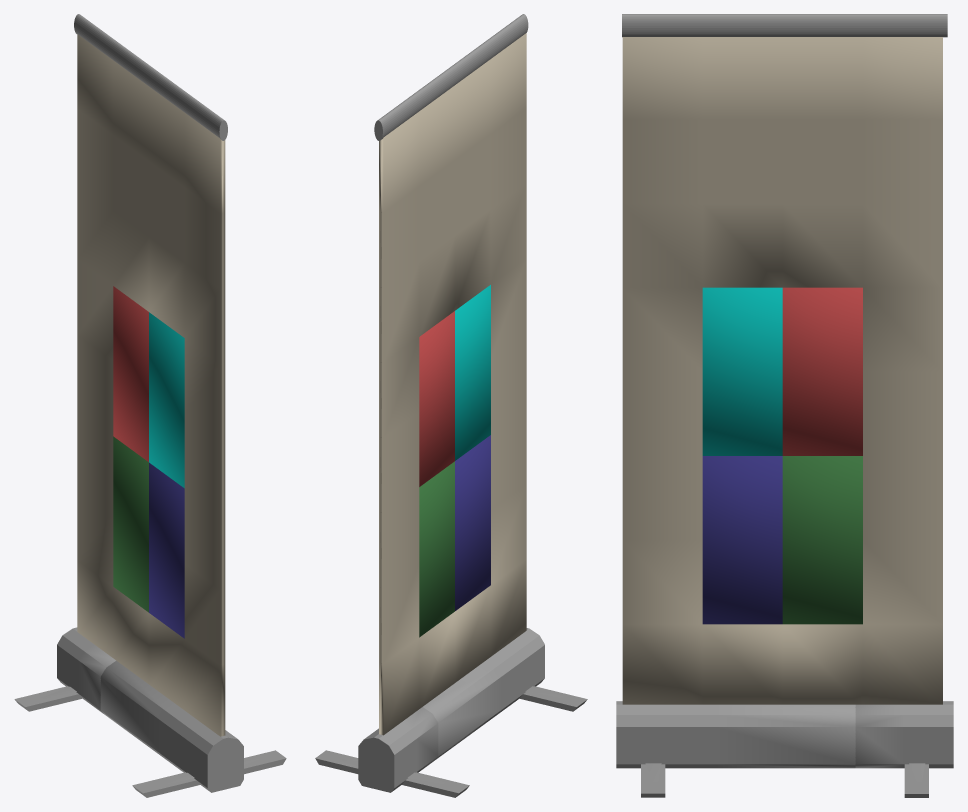
Rendered from flama 2.fbx.
3 renders of one model, left to right at view 1: azimuth 30°, elevation 25°; view 2: azimuth 150°, elevation 25°; view 3: azimuth 270°, elevation 25°, orthographic. The views are drawn at different scales.
Visible parts, largest first — view 1: Cube.001; view 2: Cube.001; view 3: Cube.001.
Boxes of the visible parts, bbox=[...] form: Cube.001: bbox=[14, 14, 286, 797]; Cube.001: bbox=[315, 14, 587, 797]; Cube.001: bbox=[616, 14, 953, 797].
Size of the model in its own units: 662 by 2930 by 1200.
